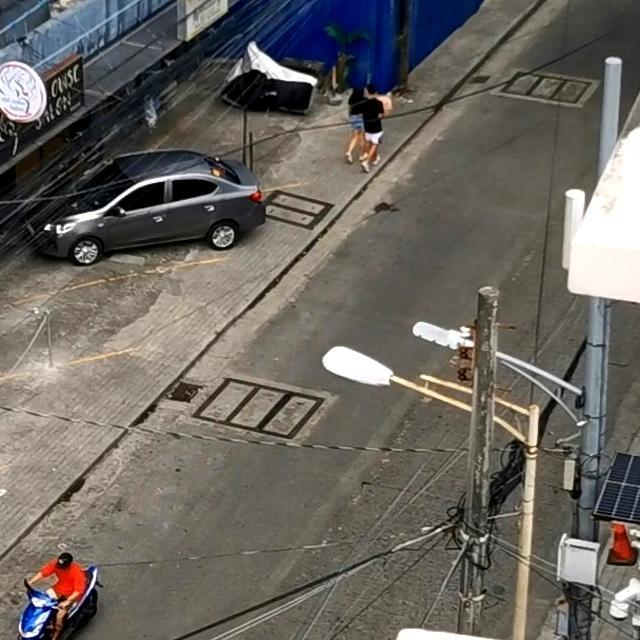Car: (17, 154, 290, 272)
